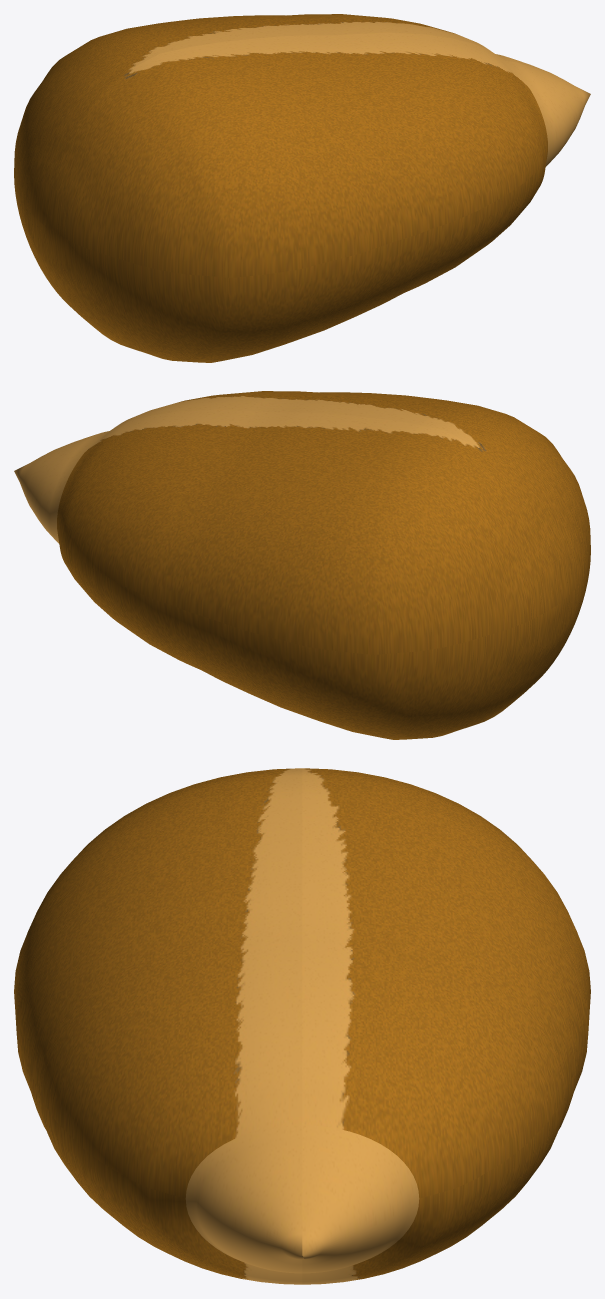
The model's file is seed.FBX.
The picture shows the model from 3 angles, top to bottom: view 1: azimuth 30°, elevation 25°; view 2: azimuth 150°, elevation 25°; view 3: azimuth 270°, elevation 25°; orthographic projection. The views are drawn at different scales.
Visible parts, largest first — view 1: Sphere017, seed_L; view 2: seed_L, Sphere017; view 3: Sphere017, seed_L.
Part boxes in pixels (<box>): Sphere017: <box>45,32,590,362</box>; seed_L: <box>14,14,583,330</box>; seed_L: <box>14,409,559,739</box>; Sphere017: <box>21,391,590,707</box>; Sphere017: <box>14,768,304,1284</box>; seed_L: <box>302,768,590,1284</box>.
Bounding box in the file's own units: 18.07 × 9.21 × 12.28.
